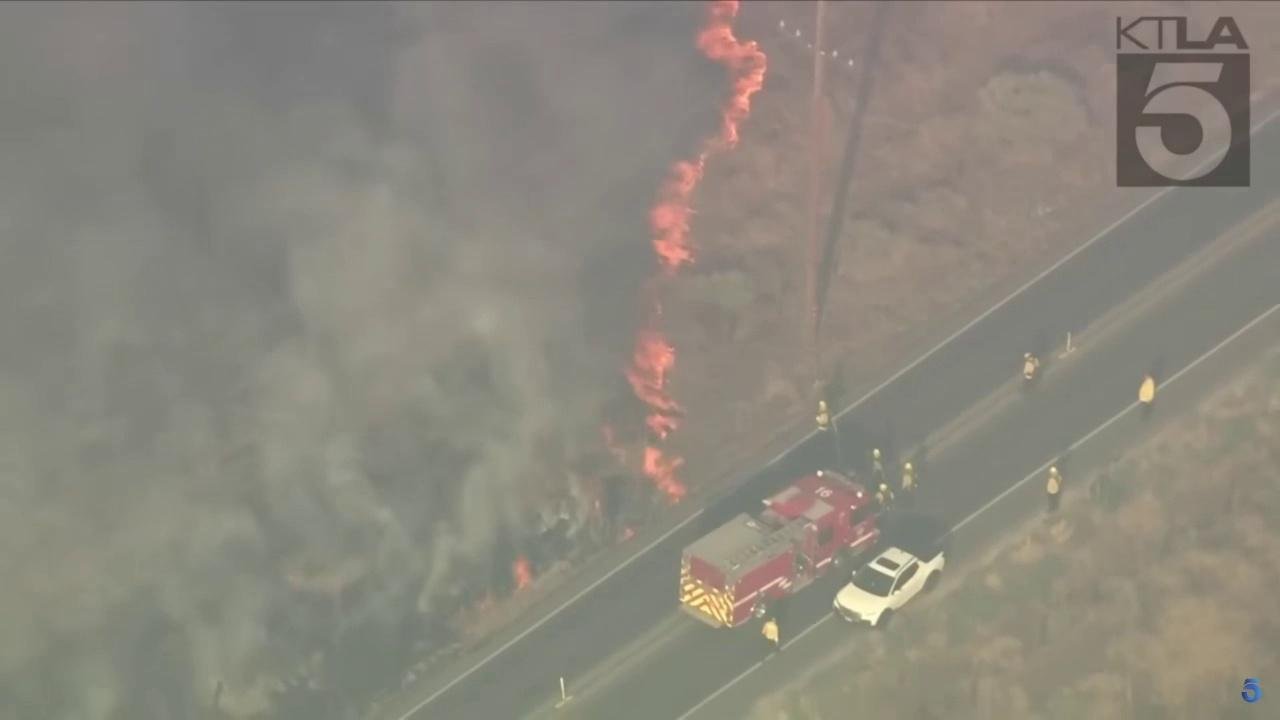fire: (650, 0, 769, 281), (625, 327, 683, 440), (641, 445, 690, 507), (513, 555, 535, 588), (622, 526, 636, 542)
smoke: (0, 0, 732, 720)
